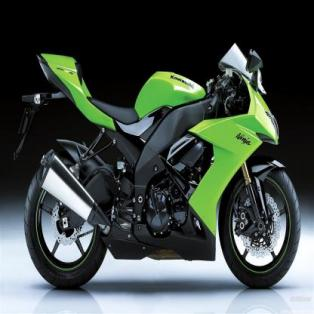Motocicleta: (7, 27, 302, 295)
